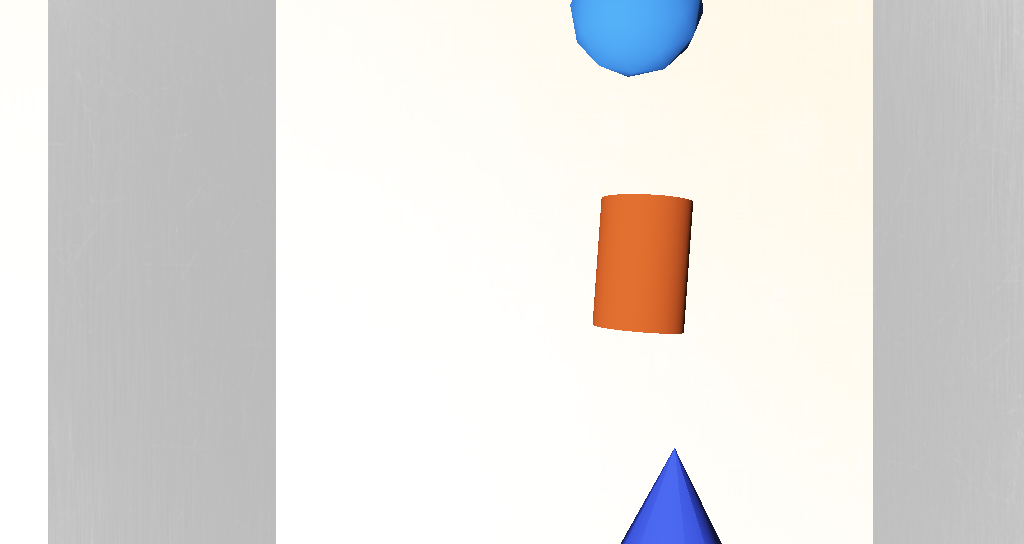cone: (515, 239, 563, 286)
cylinder: (522, 327, 583, 379)
sphere: (499, 160, 566, 203)
